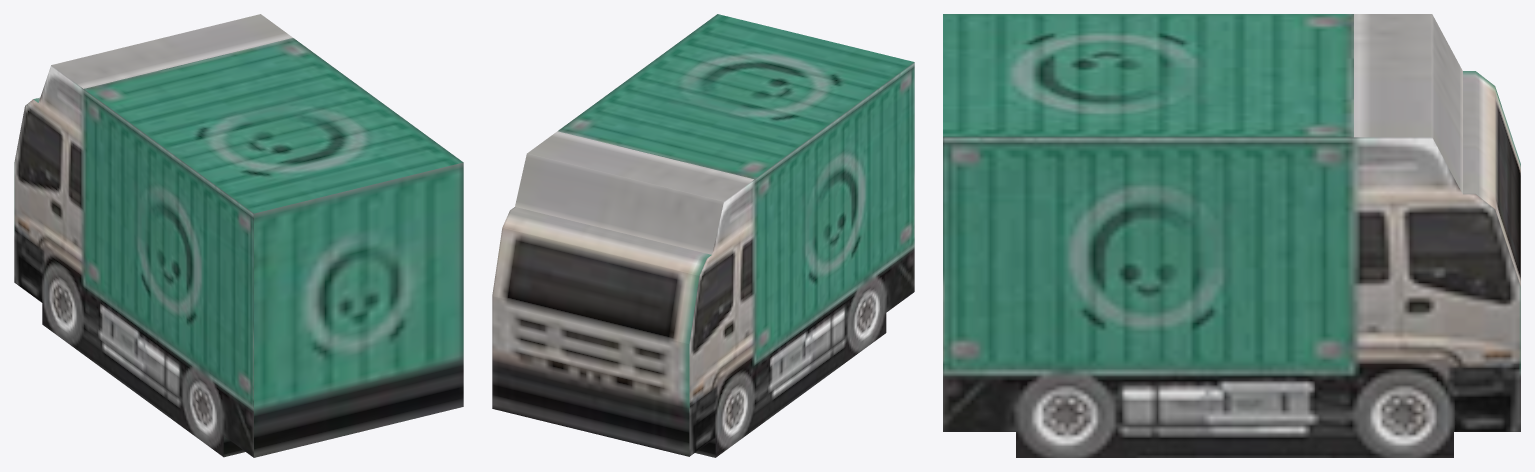
File: truck-green.glb
3 renders of one model, left to right at view 1: azimuth 30°, elevation 25°; view 2: azimuth 150°, elevation 25°; view 3: azimuth 270°, elevation 25°, orthographic. The views are drawn at different scales.
Visible parts, largest first — view 1: truck-green; view 2: truck-green; view 3: truck-green.
Part boxes in pixels (x1,y1,x2,y2): truck-green: [14, 14, 463, 457]; truck-green: [492, 14, 914, 457]; truck-green: [943, 14, 1520, 457].
Bounding box in the file's own units: 0.8301 × 1.01 × 1.64.
1 material, 1 textured.
